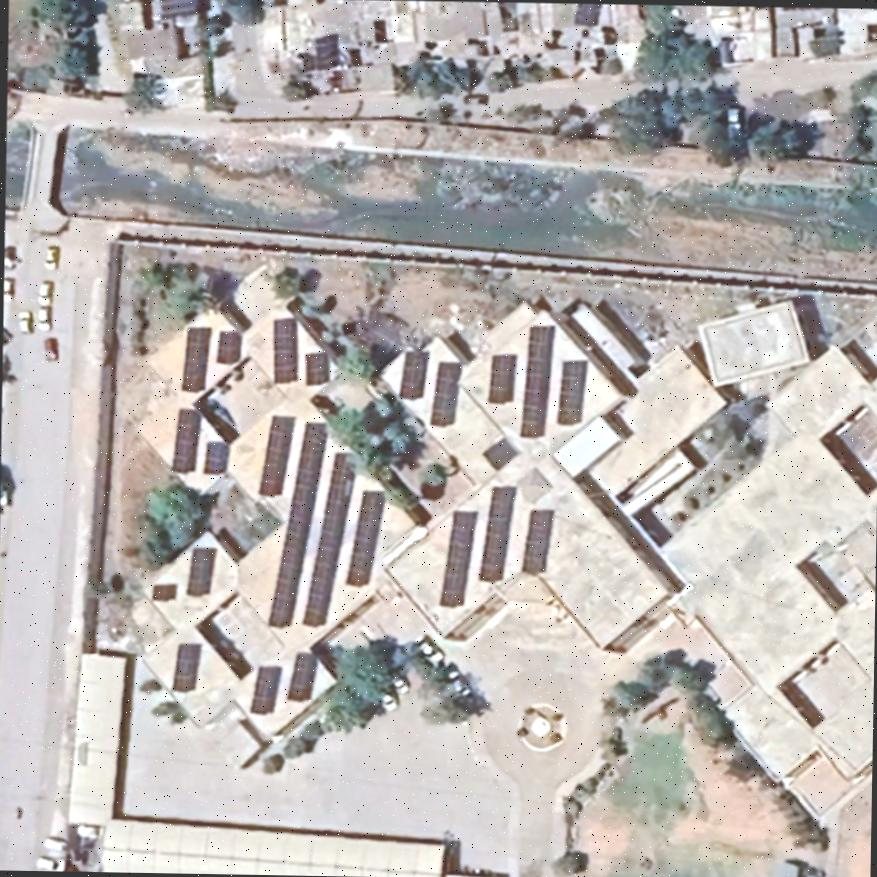Solarpanel: (263, 418, 332, 631), (295, 447, 359, 630), (516, 320, 557, 440), (342, 487, 389, 588), (436, 506, 478, 608), (479, 485, 519, 582), (256, 411, 299, 498), (425, 359, 462, 429), (521, 506, 555, 576), (169, 404, 202, 475), (555, 355, 587, 427), (270, 312, 300, 386), (179, 323, 210, 391), (282, 648, 319, 704), (169, 637, 204, 696), (396, 345, 432, 402), (484, 350, 518, 406), (182, 544, 218, 596), (248, 664, 284, 715), (213, 327, 244, 365), (200, 439, 231, 476), (302, 348, 332, 386), (150, 579, 178, 602)
